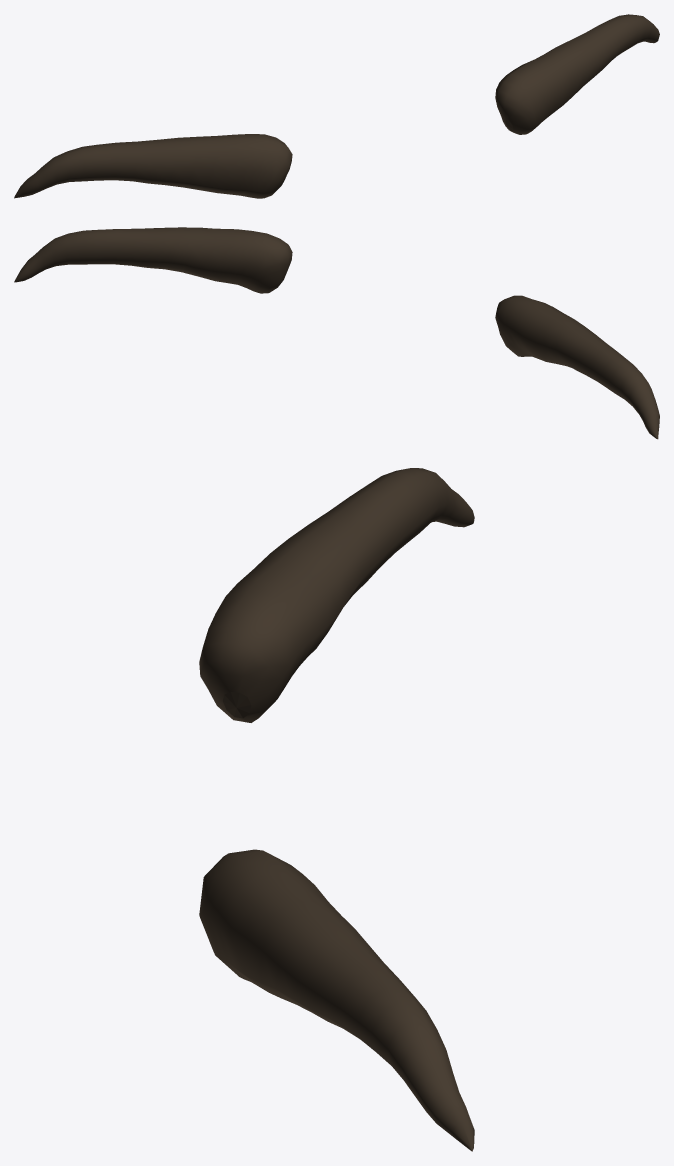
File: eyebrow_05.glb
The picture shows the model from 3 angles, top to bottom: view 1: azimuth 30°, elevation 25°; view 2: azimuth 150°, elevation 25°; view 3: azimuth 270°, elevation 25°; orthographic projection. The views are drawn at different scales.
Visible parts, largest first — view 1: straight3, straight1; view 2: straight1, straight3; view 3: straight1, straight3.
Part boxes in pixels (x1=…): straight3: x1=14, y1=134, x2=292, y2=198; straight1: x1=495, y1=14, x2=659, y2=134; straight1: x1=14, y1=227, x2=292, y2=293; straight3: x1=495, y1=295, x2=659, y2=439; straight1: x1=199, y1=849, x2=474, y2=1151; straight3: x1=199, y1=468, x2=474, y2=722.
Bounding box in the file's own units: 0.00577 × 0.000505 × 0.00107.
